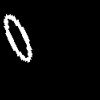chain: (4, 14, 31, 61)
